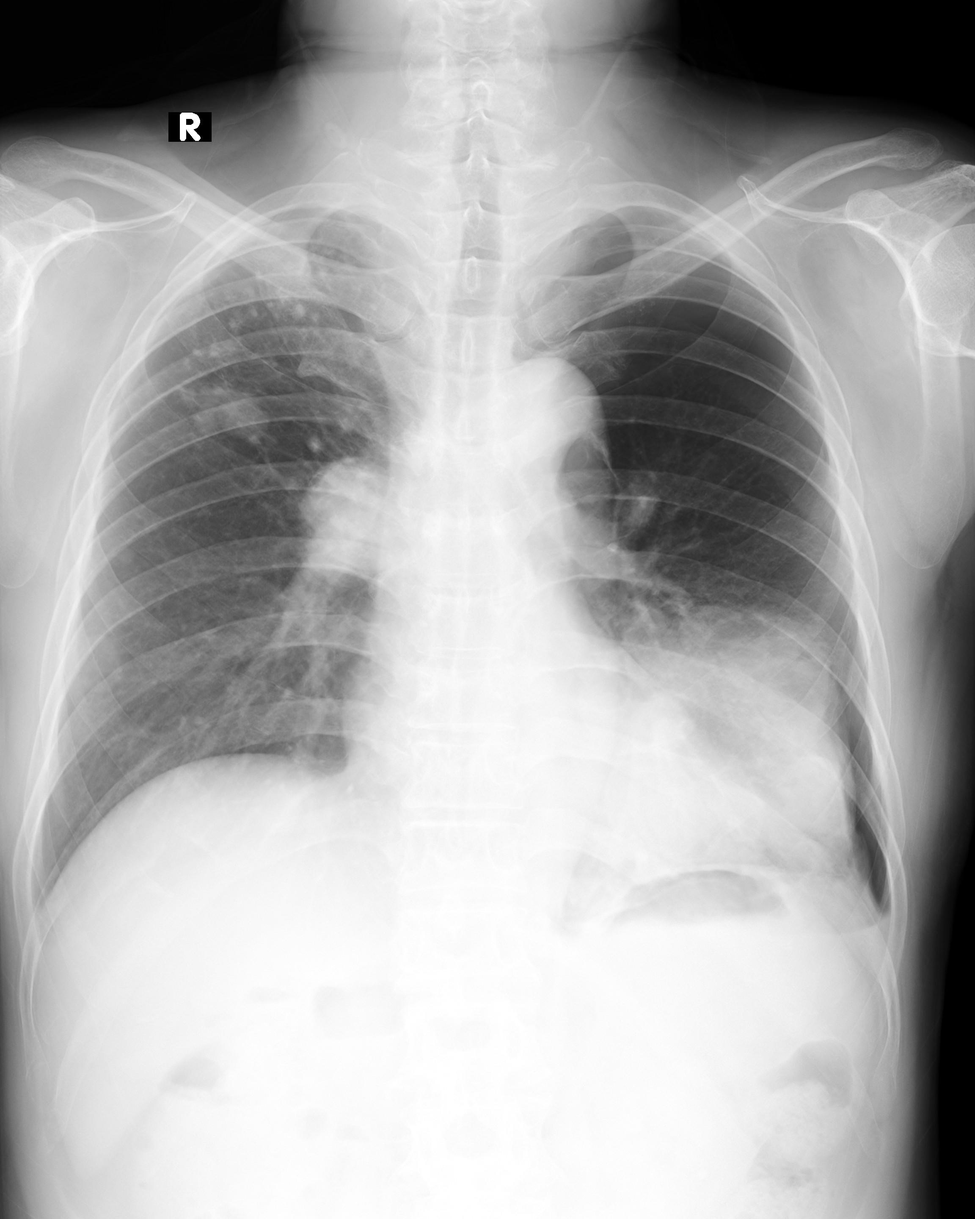Pulmonary fibrosis: (151, 207, 376, 442)
